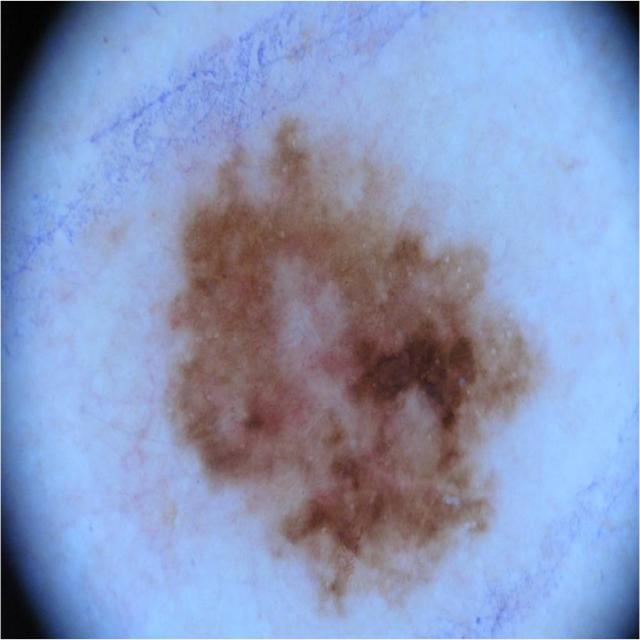Melanoma: (159, 112, 550, 618)
